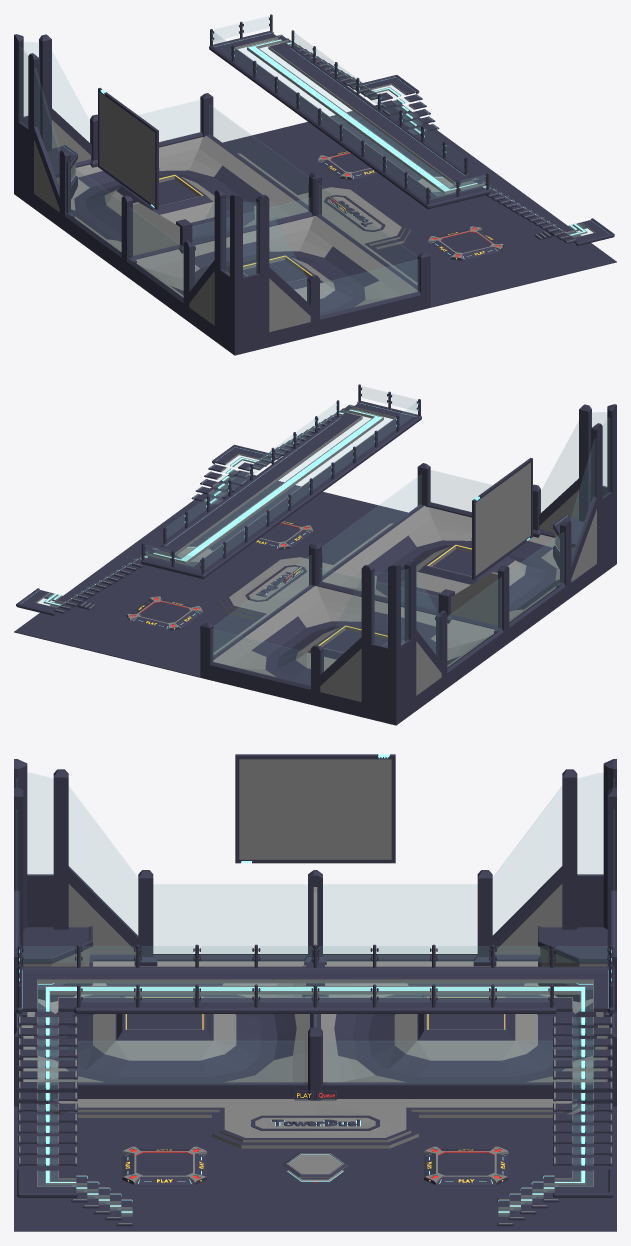
The model's file is globalScene.glb.
The picture shows the model from 3 angles, top to bottom: view 1: azimuth 30°, elevation 25°; view 2: azimuth 150°, elevation 25°; view 3: azimuth 270°, elevation 25°; orthographic projection. The views are drawn at different scales.
Visible parts, largest first — view 1: TowerDuels, Floor, Stage, Leaderboard, StepCenterMap, LiftToGameLeft, BaseBlockModel.001, BaseBlockModel, LiftToGameRight, MidStage.001, MidStage; view 2: TowerDuels, Floor, Stage, Leaderboard, StepCenterMap, LiftToGameRight, BaseBlockModel, BaseBlockModel.001, LiftToGameLeft, MidStage, MidStage.001; view 3: TowerDuels, Floor, Stage, Leaderboard, StepCenterMap, LiftToGameRight, LiftToGameLeft, BaseBlockModel, BaseBlockModel.001, MidStage.001, MidStage, Table (+18 smaller).
Part boxes in pixels (x1=…): TowerDuels: x1=14, y1=34, x2=430, y2=355; Floor: x1=222, y1=100, x2=616, y2=308; Stage: x1=209, y1=31, x2=489, y2=209; Leaderboard: x1=98, y1=87, x2=158, y2=209; StepCenterMap: x1=235, y1=151, x2=417, y2=285; LiftToGameLeft: x1=428, y1=226, x2=504, y2=260; BaseBlockModel.001: x1=117, y1=173, x2=212, y2=214; BaseBlockModel: x1=227, y1=254, x2=322, y2=289; LiftToGameRight: x1=318, y1=151, x2=378, y2=179; MidStage.001: x1=560, y1=218, x2=614, y2=245; MidStage: x1=362, y1=75, x2=419, y2=101; TowerDuels: x1=200, y1=404, x2=616, y2=725; Floor: x1=14, y1=470, x2=408, y2=678; Stage: x1=141, y1=401, x2=421, y2=579; Leaderboard: x1=472, y1=457, x2=532, y2=579; StepCenterMap: x1=213, y1=521, x2=395, y2=655; LiftToGameRight: x1=126, y1=596, x2=202, y2=630; BaseBlockModel: x1=418, y1=543, x2=513, y2=584; BaseBlockModel.001: x1=308, y1=624, x2=403, y2=659; LiftToGameLeft: x1=252, y1=521, x2=312, y2=549; MidStage: x1=16, y1=588, x2=70, y2=615; MidStage.001: x1=212, y1=444, x2=268, y2=471; TowerDuels: x1=14, y1=759, x2=616, y2=1106; Floor: x1=14, y1=1105, x2=616, y2=1231; Stage: x1=16, y1=966, x2=614, y2=1013; Leaderboard: x1=235, y1=754, x2=395, y2=863; StepCenterMap: x1=48, y1=1099, x2=582, y2=1148; LiftToGameRight: x1=424, y1=1146, x2=508, y2=1184; LiftToGameLeft: x1=122, y1=1146, x2=206, y2=1184; BaseBlockModel: x1=116, y1=995, x2=212, y2=1040; BaseBlockModel.001: x1=418, y1=995, x2=514, y2=1040; MidStage.001: x1=17, y1=1168, x2=77, y2=1197; MidStage: x1=553, y1=1168, x2=613, y2=1197; Table: x1=282, y1=1152, x2=348, y2=1177.
Size of what is drawn, in the model's own units: 32 by 13.15 by 32.
